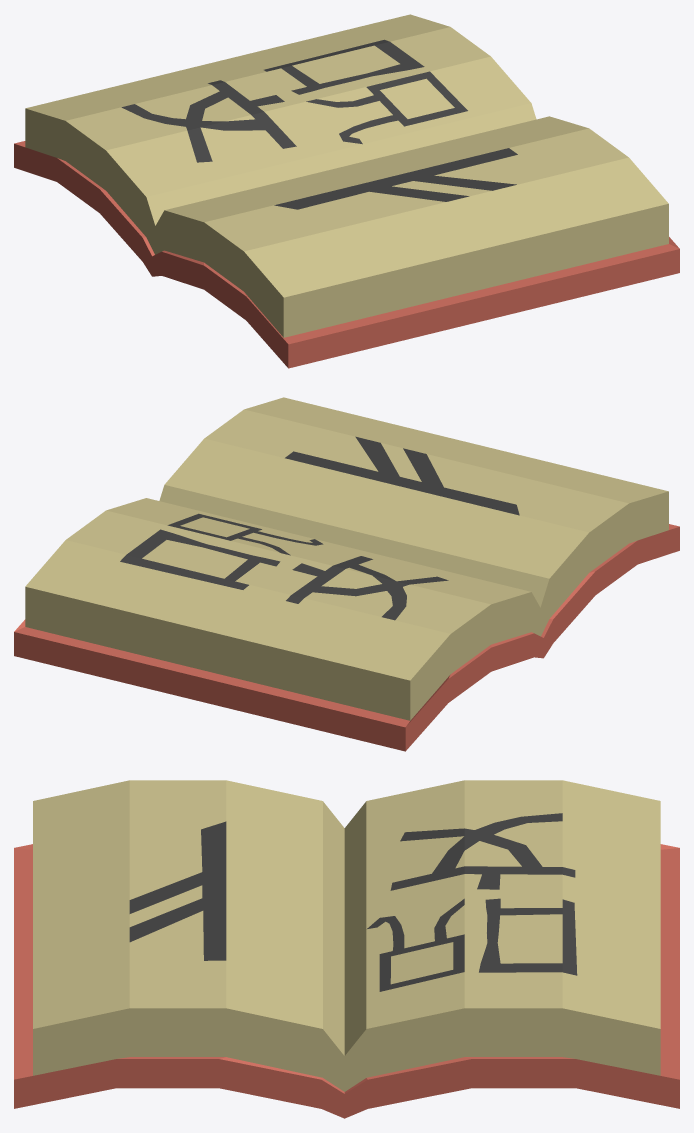
File: SpellTomeOpen.fbx
3 renders of one model, top to bottom at view 1: azimuth 30°, elevation 25°; view 2: azimuth 150°, elevation 25°; view 3: azimuth 270°, elevation 25°, orthographic. The views are drawn at different scales.
Parts seen in each view (by area): view 1: Cube.001, Cube.002, Cube.003, Cube.005; view 2: Cube.001, Cube.002, Cube.003, Cube.005; view 3: Cube.001, Cube.002, Cube.003, Cube.005, Cube.004.
Part boxes in pixels (x1,y1,x2,y2): Cube.001: (25,14,668,337); Cube.002: (14,141,679,368); Cube.003: (121,39,467,162); Cube.005: (274,148,517,209); Cube.001: (25,397,668,720); Cube.002: (14,524,679,751); Cube.003: (120,513,448,620); Cube.005: (285,436,519,515); Cube.001: (33,780,660,1091); Cube.002: (14,844,679,1118); Cube.003: (367,813,577,991); Cube.005: (129,821,226,960); Cube.004: (497,932,562,942).
Size of the model in its own units: 203 by 44.37 by 247.
